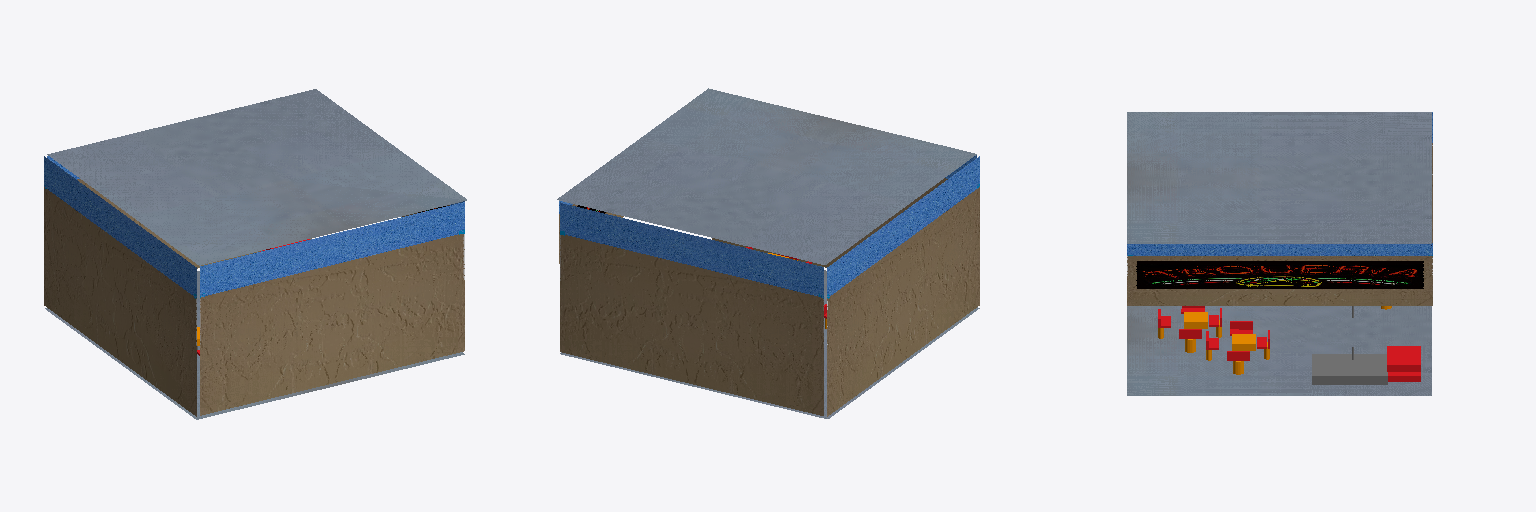
The picture shows the model from 3 angles: view 1: azimuth 30°, elevation 25°; view 2: azimuth 150°, elevation 25°; view 3: azimuth 270°, elevation 25°; orthographic projection.
Visible parts, largest first — view 1: Box015, Box010, Box014, Box012, Box013; view 2: Box015, Box013, Box014, Box012, Box010; view 3: Box015, Box012, Box016, Box139, Box136.
Boxes of the visible parts, x1=… form: Box015: x1=47, y1=89, x2=466, y2=265; Box010: x1=200, y1=202, x2=464, y2=415; Box014: x1=44, y1=156, x2=196, y2=416; Box012: x1=45, y1=271, x2=464, y2=419; Box013: x1=47, y1=156, x2=311, y2=268; Box015: x1=557, y1=88, x2=976, y2=264; Box013: x1=560, y1=203, x2=823, y2=415; Box014: x1=827, y1=156, x2=979, y2=416; Box012: x1=560, y1=270, x2=979, y2=418; Box010: x1=712, y1=155, x2=976, y2=267; Box015: x1=1127, y1=112, x2=1431, y2=243; Box012: x1=1127, y1=306, x2=1431, y2=395; Box016: x1=1127, y1=243, x2=1432, y2=305; Box139: x1=1312, y1=354, x2=1387, y2=384; Box136: x1=1387, y1=346, x2=1420, y2=371.
Bounding box in the file's own units: 111 × 61.54 × 109.
8 materials, 6 textured.